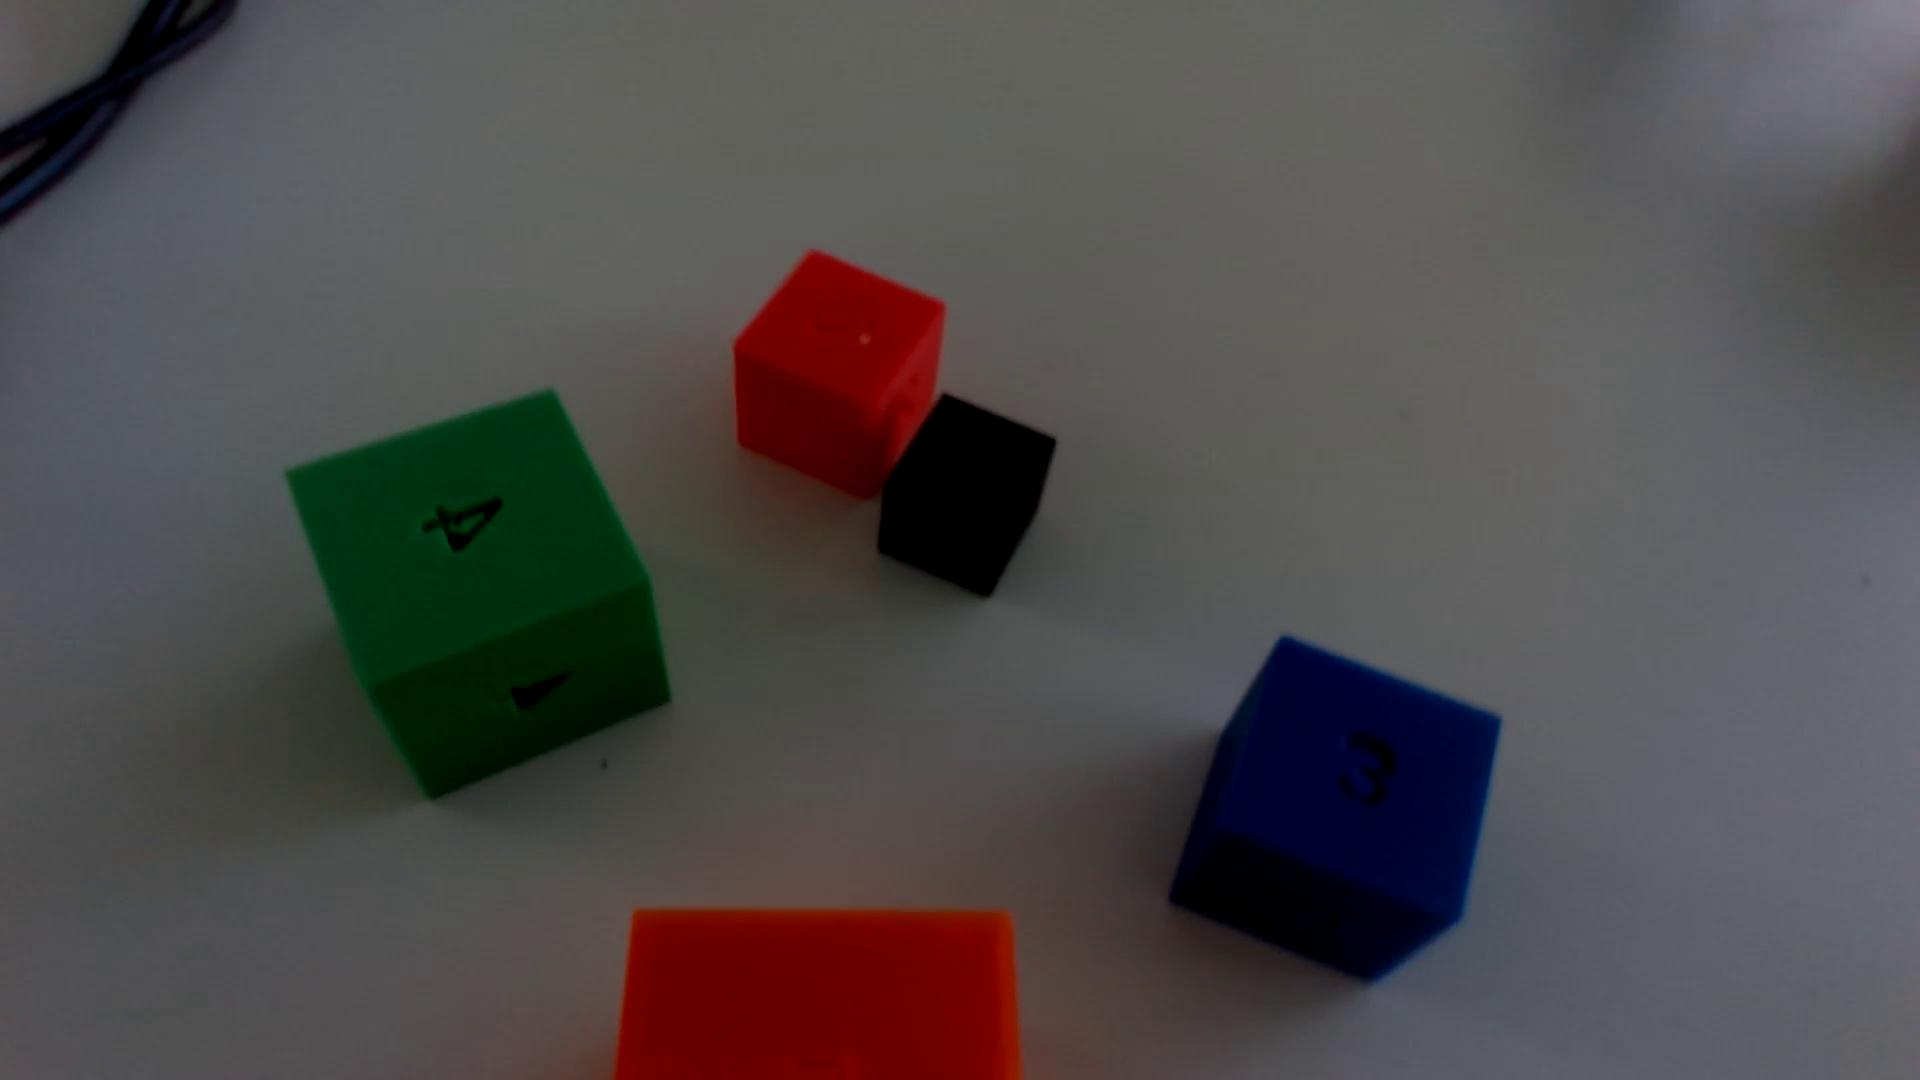black: (878, 396, 1056, 597)
blue: (1171, 638, 1501, 982)
green: (287, 392, 669, 796)
orange: (615, 909, 1022, 1080)
red: (733, 252, 945, 498)
